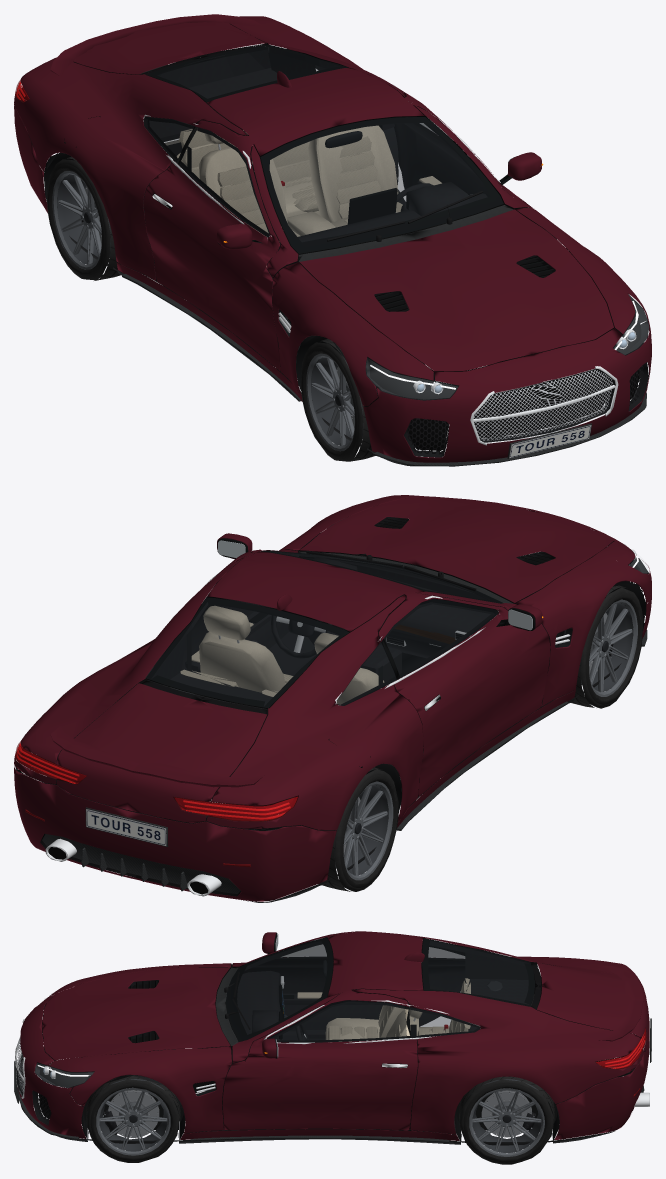
The model's file is grand-tourer.glb.
3 views of the same model, one above another, from view 1: azimuth 30°, elevation 25°; view 2: azimuth 150°, elevation 25°; view 3: azimuth 270°, elevation 25° (orthographic). The views are drawn at different scales.
Visible parts, largest first — view 1: Body, Wheel_RR, Wheel_FR; view 2: Body, Wheel_RR, Wheel_FR, Steering_Wheel; view 3: Body, Wheel_RL, Wheel_FL.
Boxes of the visible parts, box(x1,y1,x2,y2) form: Body: box(14, 14, 651, 466); Wheel_RR: box(46, 156, 123, 280); Wheel_FR: box(300, 339, 375, 461); Body: box(14, 495, 651, 902); Wheel_RR: box(319, 767, 398, 891); Wheel_FR: box(568, 585, 643, 708); Steering_Wheel: box(271, 608, 331, 658); Body: box(14, 931, 651, 1145); Wheel_RL: box(459, 1076, 554, 1164); Wheel_FL: box(86, 1075, 180, 1162).
Size of the model in its own units: 2.07 by 1.33 by 4.78.
Materials: 60 (14 with a texture image).
